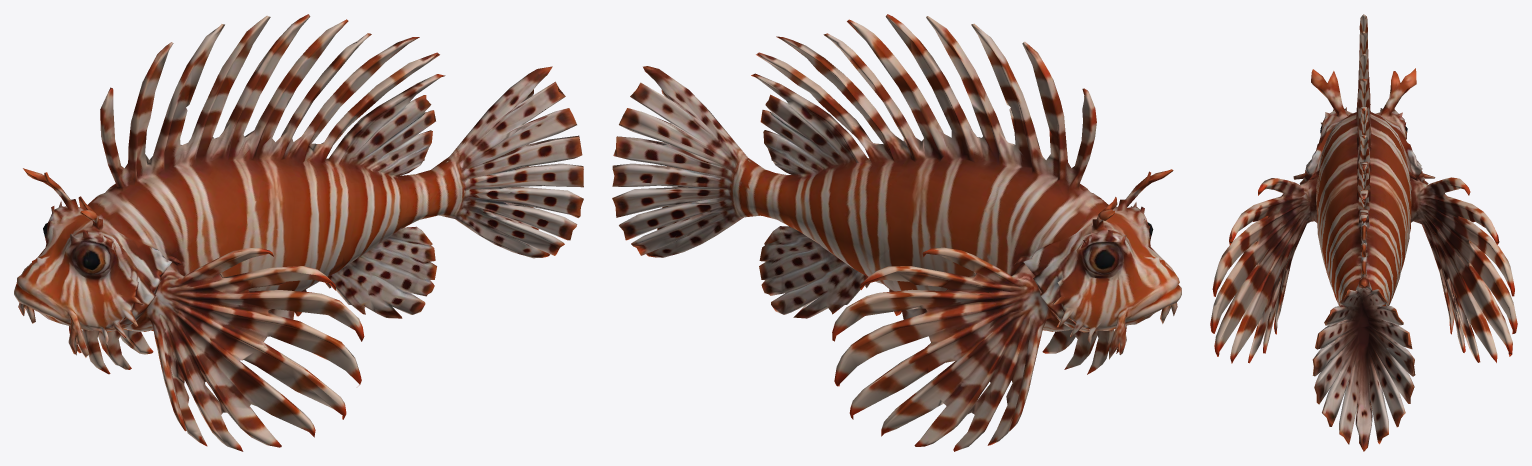
Rendered from fish-krylatka.glb.
The picture shows the model from 3 angles, left to right: view 1: azimuth 30°, elevation 25°; view 2: azimuth 150°, elevation 25°; view 3: azimuth 270°, elevation 25°; orthographic projection. The views are drawn at different scales.
Parts seen in each view (by area): view 1: tripo_node_d9f7bd07-7c82-4478-8bc3-e9f75e523f90; view 2: tripo_node_d9f7bd07-7c82-4478-8bc3-e9f75e523f90; view 3: tripo_node_d9f7bd07-7c82-4478-8bc3-e9f75e523f90.
Part boxes in pixels (bbox=[...]): tripo_node_d9f7bd07-7c82-4478-8bc3-e9f75e523f90: bbox=[14, 14, 583, 451]; tripo_node_d9f7bd07-7c82-4478-8bc3-e9f75e523f90: bbox=[612, 14, 1181, 451]; tripo_node_d9f7bd07-7c82-4478-8bc3-e9f75e523f90: bbox=[1210, 14, 1517, 451].
Size of the model in its own units: 1 by 0.6711 by 0.5534.
1 material, 1 textured.
